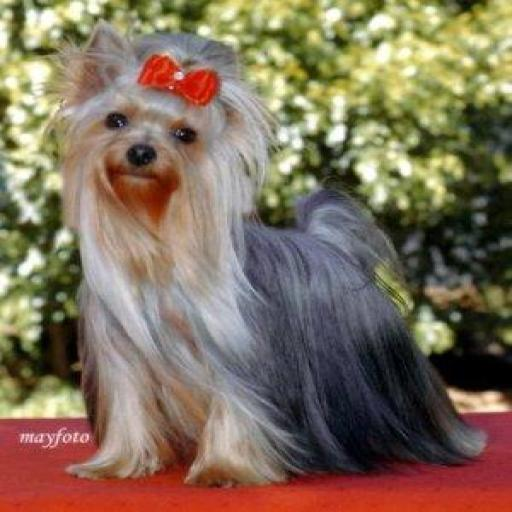dog_face: (54, 32, 264, 209)
